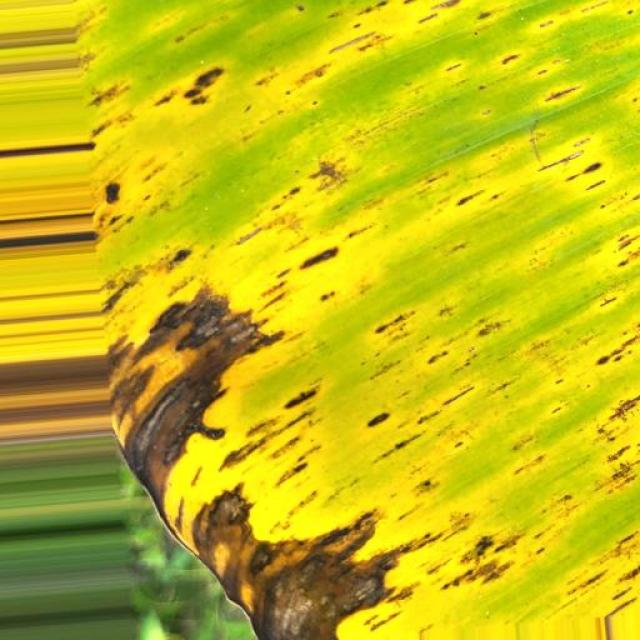Early_rust: (5, 3, 640, 640)
